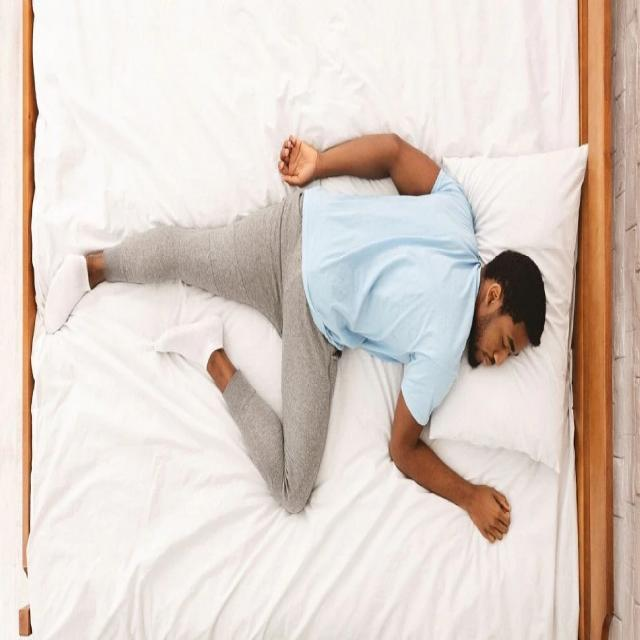people: (36, 114, 556, 562)
